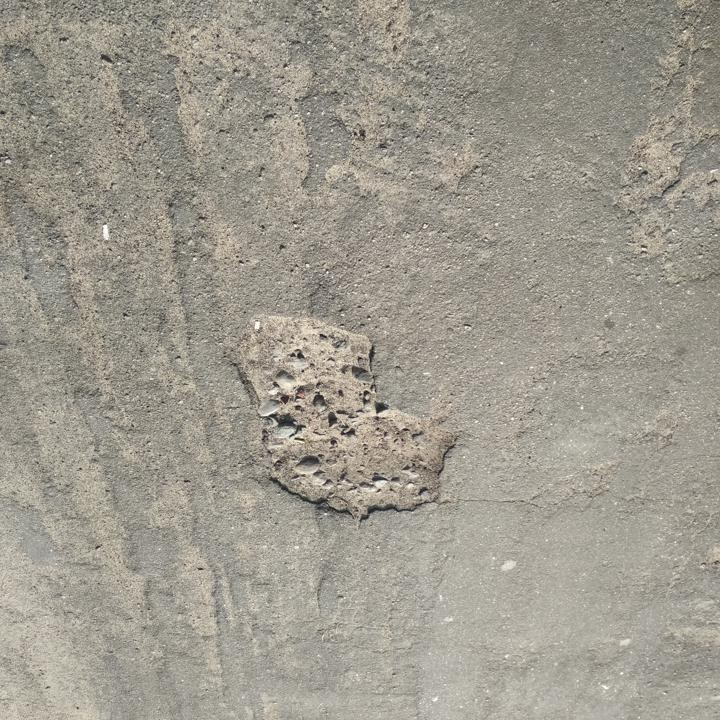pothole: (225, 306, 462, 525)
